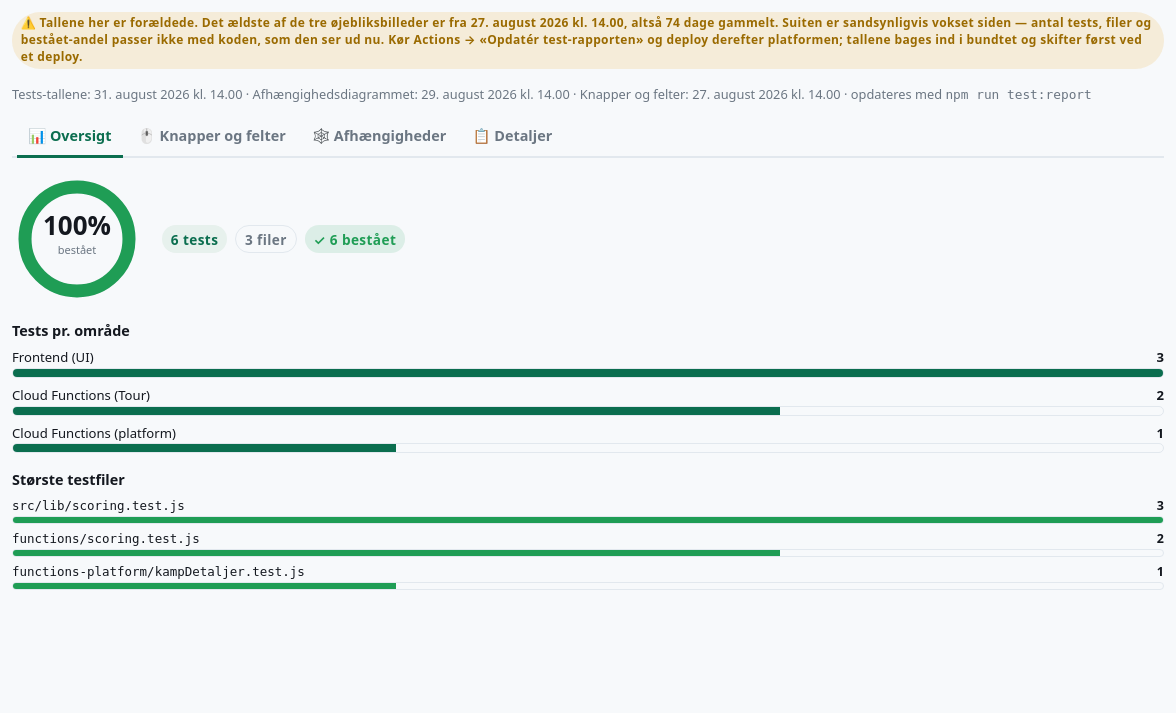
it: TestsTab › har underfanen «Knapper og felter» som nr. 2, og den viser fladedækningen
The width and height of the screenshot is (1176, 713).
Click the tab with test id "subtab-flade": (212, 137) [127,116,297,158]
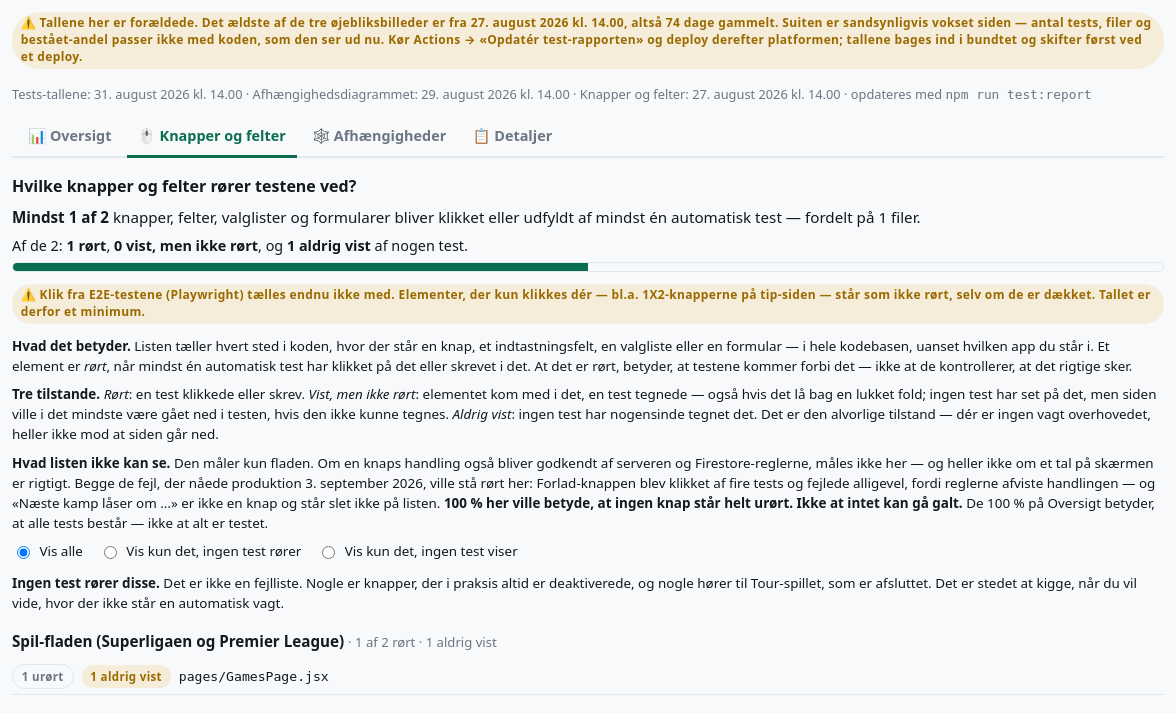
Result: the element with test id "flade-tal" shows "Mindst 1 af 2" at [12,207,921,227]
